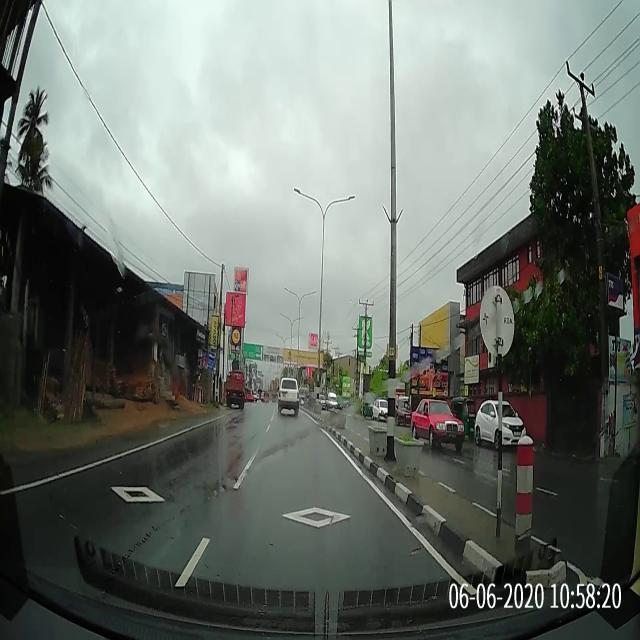diamond: (185, 480, 444, 555)
